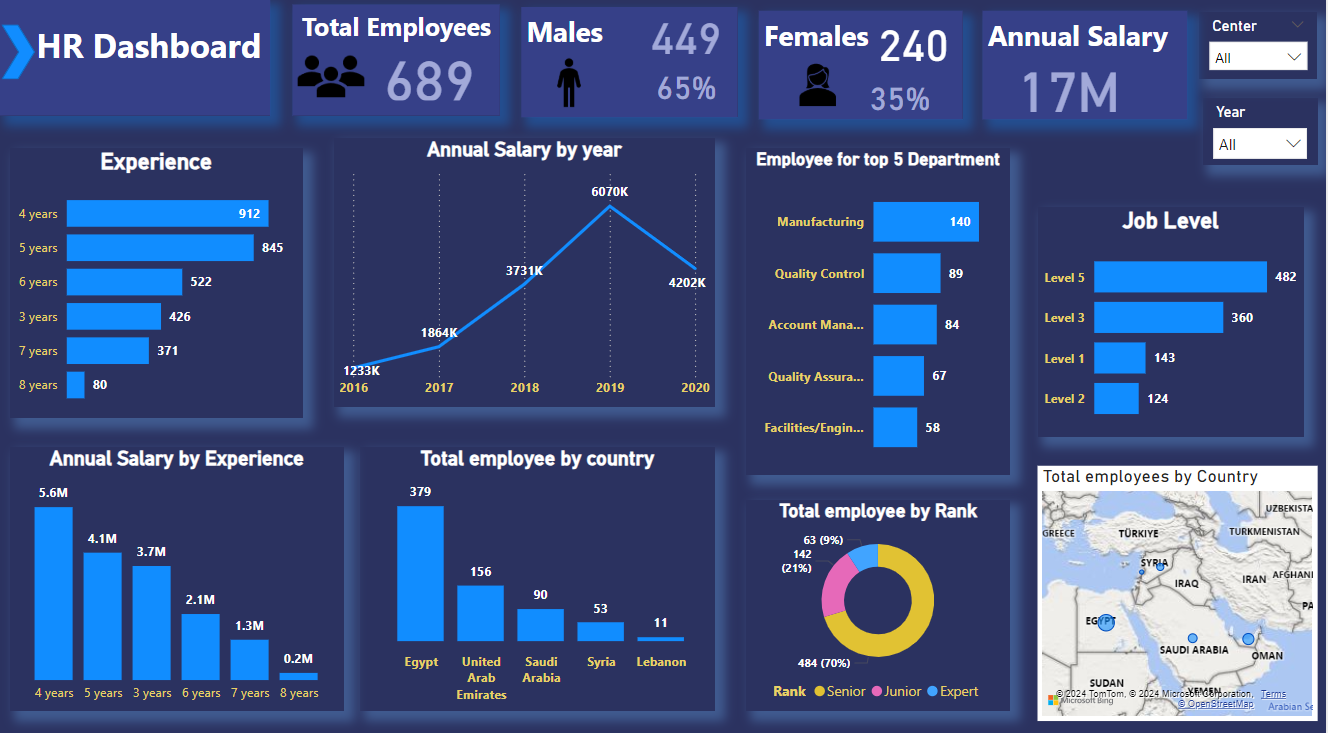

This screenshot's page, from the dashboard's own definition file:
{"tool":"powerbi","page":{"name":"Page 1","canvas":[1280,720],"ordinal":0},"visuals":[{"type":"card","fields":{"Values":["All Measures.Total employees"]},"box":[364.3,49.5,100.1,60.3],"z":0},{"type":"card","fields":{"Values":["Employees.Total annual salary"]},"box":[974.8,39.8,113.4,101.3],"z":1000},{"type":"card","fields":{"Values":["All Measures.Males"]},"box":[612.9,14.5,98.9,51.9],"z":2000},{"type":"card","fields":{"Values":["All Measures.% males"]},"box":[597.2,57.9,130.3,65.1],"z":3000},{"type":"card","fields":{"Values":["All Measures.% females"]},"box":[804.7,71.2,127.9,60.3],"z":4000},{"type":"textbox","box":[732.3,18.1,196.6,105],"z":5000},{"type":"textbox","box":[503.1,14.5,208.7,106.2],"z":6000},{"type":"textbox","box":[0,7.2,260.6,112.2],"z":7000},{"type":"textbox","box":[282.3,12.1,200.3,107.4],"z":8000},{"type":"shape","box":[1.2,31.4,32.6,53.1],"z":9000},{"type":"card","fields":{"Values":["All Measures.Females"]},"box":[831.2,12.1,101.3,71.2],"z":10000},{"type":"textbox","box":[948.3,18.1,197.9,105],"z":11000},{"type":"columnChart","title":" Annual Salary by Experience","fields":{"Y":["Sum(Employees.Annual Salary)"],"Category":["Employees.Experience"]},"box":[10,439,322.1,255.1],"z":12000},{"type":"clusteredBarChart","title":"Job Level","fields":{"Category":["Employees.Job Level"],"Y":["Sum(Employees.Sick Leaves)"]},"box":[1001.3,207.5,257,222],"z":13000},{"type":"clusteredBarChart","title":"Experience","fields":{"Category":["Employees.Experience"],"Y":["Sum(Employees.Years of service)"]},"box":[9.7,150.8,282.3,260.6],"z":14000},{"type":"lineChart","title":"Annual Salary by year","fields":{"Category":["Employees.Start Date.Variation.Date Hierarchy.Year"],"Y":["Sum(Employees.Annual Salary)"]},"box":[322.1,141.2,368,259.4],"z":15000},{"type":"columnChart","title":"Total employee by country","fields":{"Category":["Employees.Country"],"Y":["All Measures.Total employees"]},"box":[347.5,439.1,342.6,254.6],"z":16000},{"type":"donutChart","title":"Total employee by Rank","fields":{"Category":["Employees.Rank"],"Y":["All Measures.Total employees"]},"box":[720.2,489.8,254.6,203.9],"z":17000},{"type":"clusteredBarChart","title":"Employee for top 5 Department","fields":{"Y":["All Measures.Total employees"],"Category":["Employees.Department"]},"box":[720.2,150.8,254.6,314.9],"z":18000},{"type":"slicer","title":"Job Level","fields":{"Values":["Employees.Start Date.Variation.Date Hierarchy.Year"]},"box":[1160.6,102.5,111,65.1],"z":19000},{"type":"slicer","title":"Job Level","fields":{"Values":["Employees.Center"]},"box":[1157,19.3,114.6,65.1],"z":20000},{"type":"filledMap","fields":{"Category":["Employees.Country"]},"box":[1001.3,457.2,270.2,246.1],"z":21000},{"type":"image","box":[756.4,60.3,65.1,62.7],"z":22000},{"type":"image","box":[518.8,57.9,60.3,59.1],"z":23000},{"type":"image","box":[273.9,39.8,90.5,83.2],"z":24000}]}

Visuals, with their boxes in screenshot pixels (x1, y1, x2, y2), scaled from the page's 1280x720 canvas onto the 1328x733 screenshot:
card - All Measures.Total employees: x1=378 y1=50 x2=482 y2=112
card - Employees.Total annual salary: x1=1011 y1=41 x2=1129 y2=144
card - All Measures.Males: x1=636 y1=15 x2=738 y2=68
card - All Measures.% males: x1=620 y1=59 x2=755 y2=125
card - All Measures.% females: x1=835 y1=72 x2=968 y2=134
textbox: x1=760 y1=18 x2=964 y2=125
textbox: x1=522 y1=15 x2=738 y2=123
textbox: x1=0 y1=7 x2=270 y2=122
textbox: x1=293 y1=12 x2=501 y2=122
shape: x1=1 y1=32 x2=35 y2=86
card - All Measures.Females: x1=862 y1=12 x2=967 y2=85
textbox: x1=984 y1=18 x2=1189 y2=125
" Annual Salary by Experience" columnChart: x1=10 y1=447 x2=345 y2=707
"Job Level" clusteredBarChart: x1=1039 y1=211 x2=1305 y2=437
"Experience" clusteredBarChart: x1=10 y1=154 x2=303 y2=419
"Annual Salary by year" lineChart: x1=334 y1=144 x2=716 y2=408
"Total employee by country" columnChart: x1=361 y1=447 x2=716 y2=706
"Total employee by Rank" donutChart: x1=747 y1=499 x2=1011 y2=706
"Employee for top 5 Department" clusteredBarChart: x1=747 y1=154 x2=1011 y2=474
"Job Level" slicer: x1=1204 y1=104 x2=1319 y2=171
"Job Level" slicer: x1=1200 y1=20 x2=1319 y2=86
filledMap - Employees.Country: x1=1039 y1=465 x2=1319 y2=716
image: x1=785 y1=61 x2=852 y2=125
image: x1=538 y1=59 x2=601 y2=119
image: x1=284 y1=41 x2=378 y2=125
